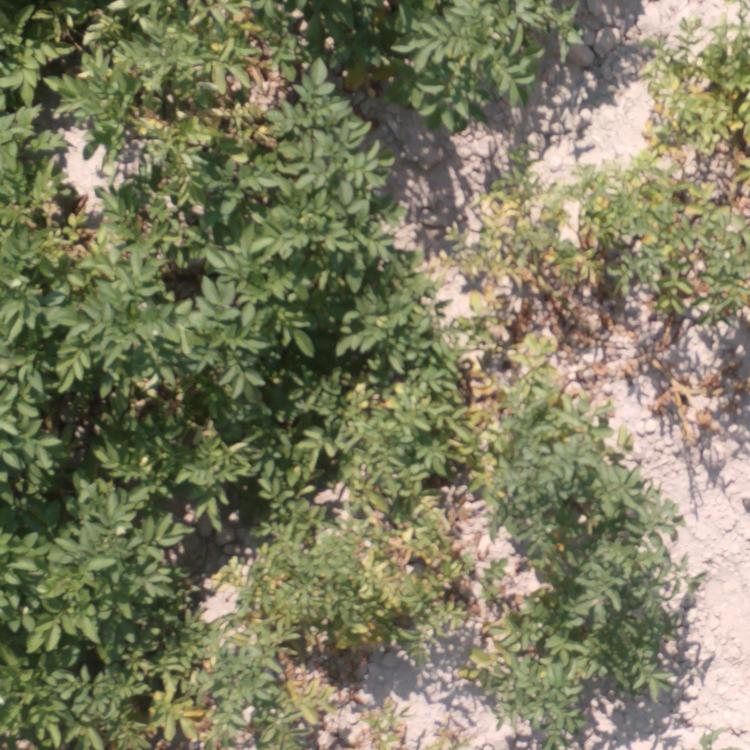healthy: (1, 515, 198, 749), (247, 133, 416, 364), (502, 550, 696, 736), (1, 387, 239, 510), (382, 1, 582, 122), (144, 128, 232, 366), (185, 1, 346, 128), (478, 389, 613, 539), (6, 1, 165, 120), (12, 250, 129, 377), (1, 107, 73, 245)
stressed: (463, 160, 613, 373), (204, 610, 403, 744), (253, 370, 452, 497), (249, 500, 476, 604), (615, 156, 750, 329), (631, 19, 750, 145), (656, 354, 745, 407)
